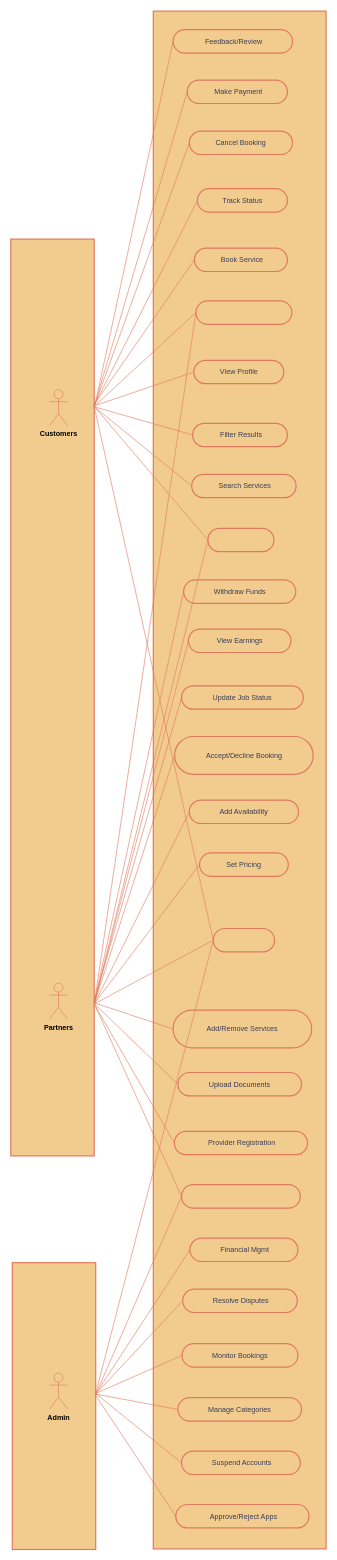
The diagram is 337 pixels wide and 1560 high, and some of its shapes have lost their labels. The shapes that lost their labels are listed below. From the top down, each one's centre as x and y in pixels, then its label:
At pixel 243 312: "Chat System".
At pixel 240 539: "Signup".
At pixel 243 940: "Login".
At pixel 241 1196: "Generate Reports".
